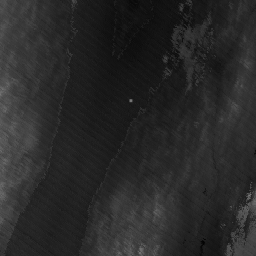Target: (128, 97, 134, 103)
